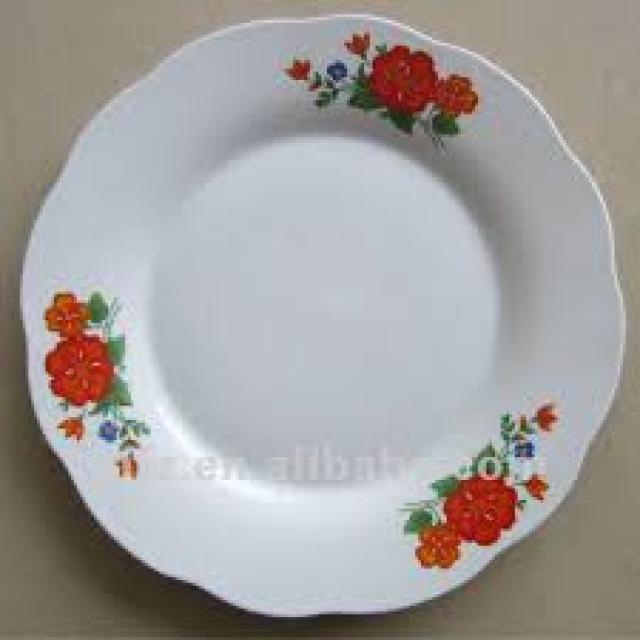Plate: (15, 4, 638, 632)
